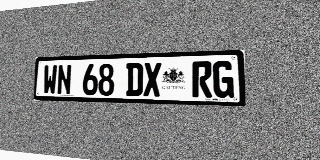6: (83, 64, 98, 95)
8: (98, 63, 115, 96)
D: (126, 63, 143, 96)
G: (213, 61, 234, 98)
N: (57, 64, 72, 95)
R: (192, 61, 212, 98)
W: (43, 65, 57, 95)
X: (143, 62, 161, 97)
